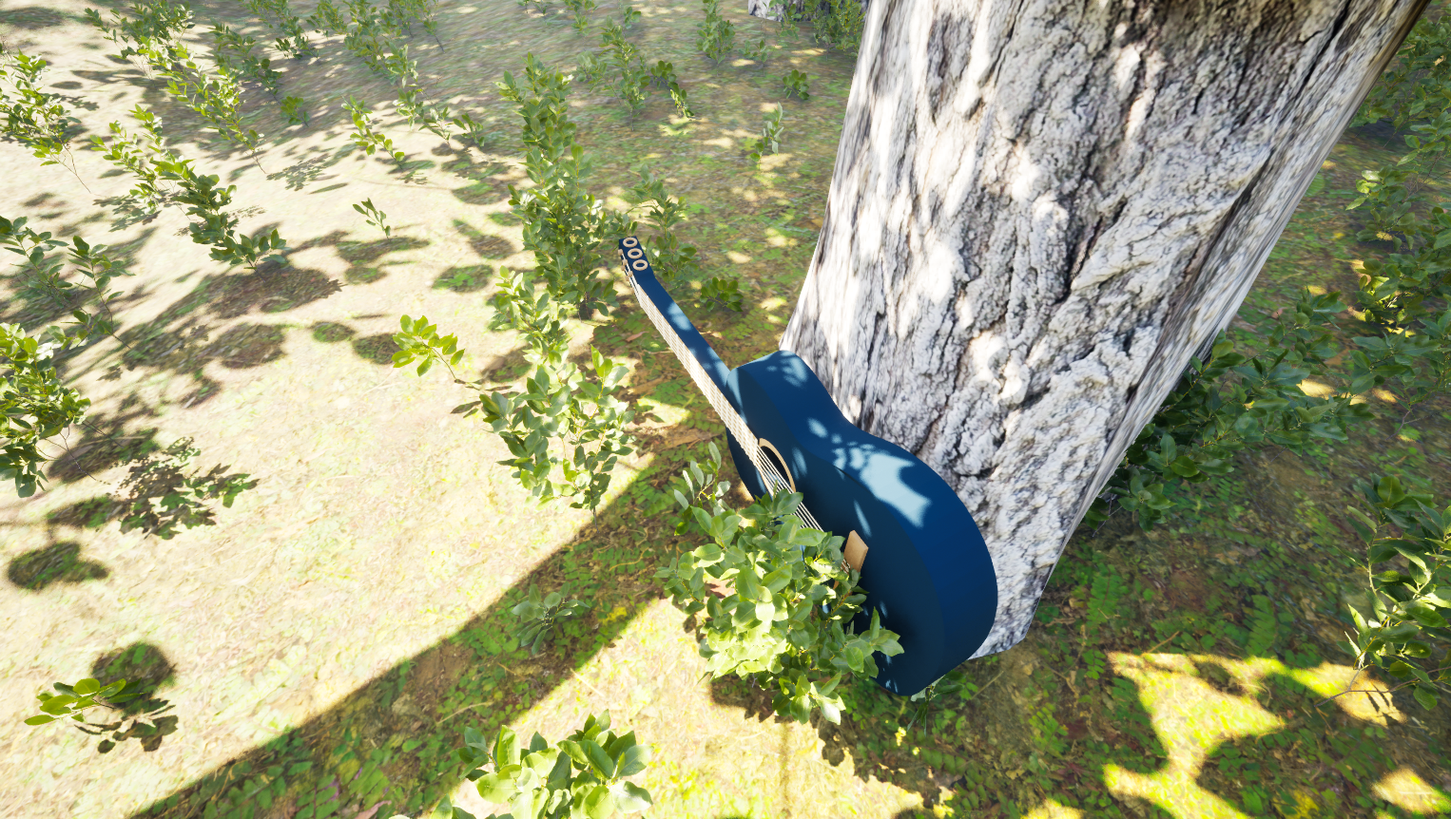Guitar: (592, 158, 1039, 727)
